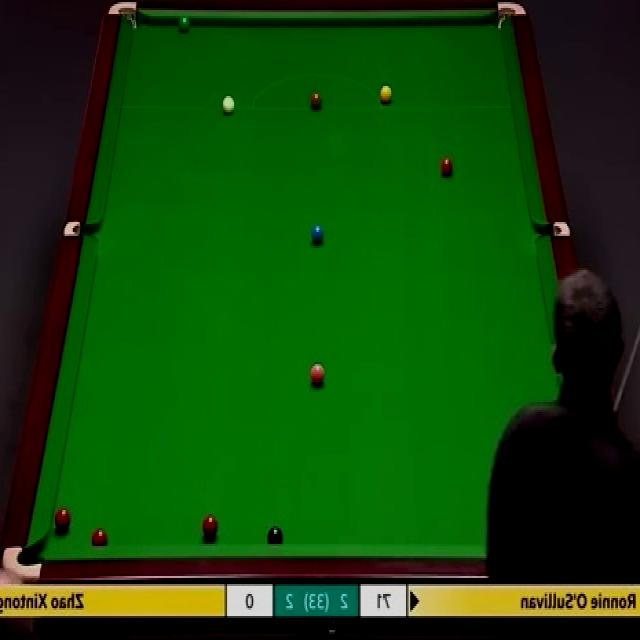pocket: (1, 540, 43, 582), (497, 1, 530, 30), (106, 1, 137, 30), (537, 219, 571, 239), (63, 221, 97, 240)
